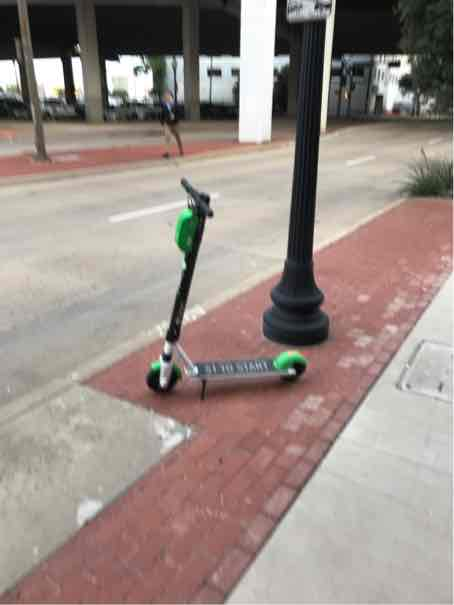scooter: (143, 171, 319, 400)
